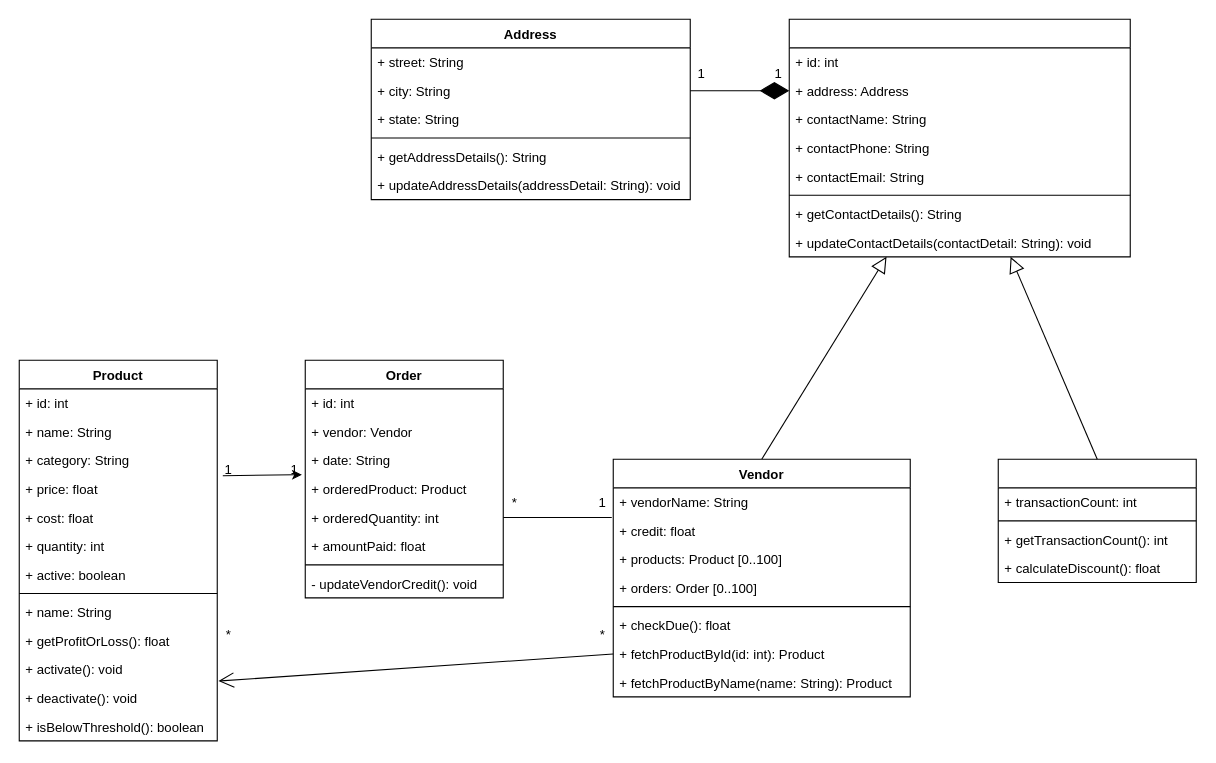
Image size: 1216x763. Some labels were removed from this diagram. Each missing label, with the box of its shape:
BusinessPartner: (788, 18, 1130, 257)
Customer: (997, 458, 1196, 582)
